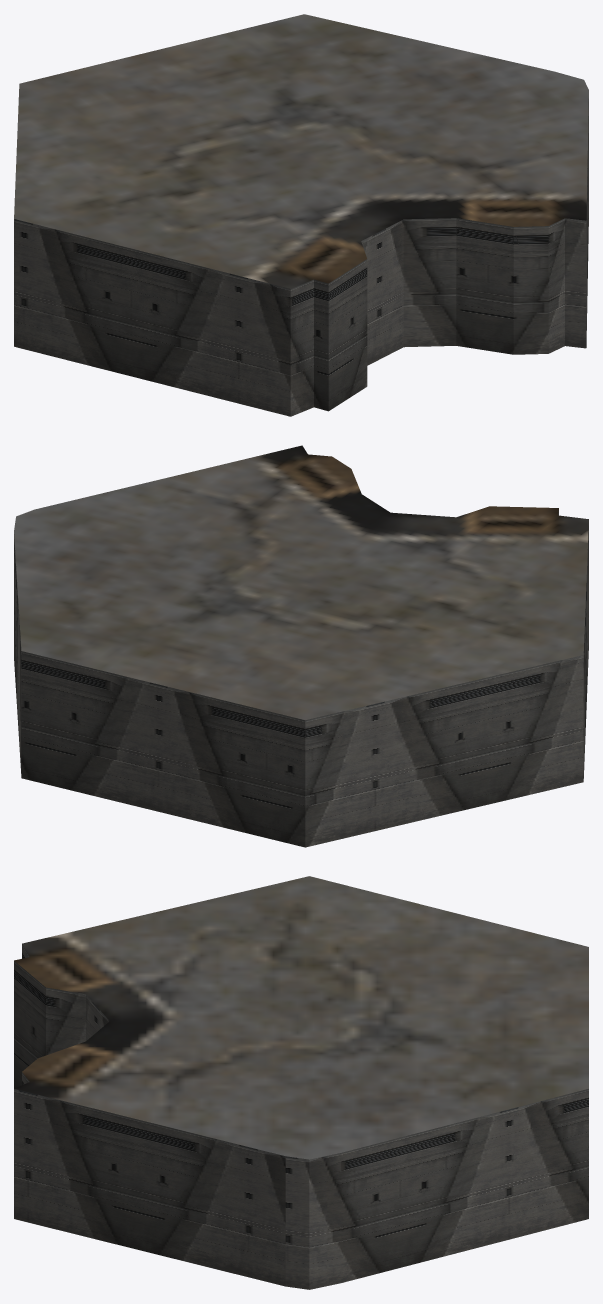
The model's file is fortress_light_a_55.glb.
3 views of the same model, one above another, from view 1: azimuth 30°, elevation 25°; view 2: azimuth 150°, elevation 25°; view 3: azimuth 270°, elevation 25° (orthographic). The views are drawn at different scales.
Visible parts, largest first — view 1: buildings/saxarba/fortress_light/fortress_light_a_55; view 2: buildings/saxarba/fortress_light/fortress_light_a_55; view 3: buildings/saxarba/fortress_light/fortress_light_a_55.
Boxes of the visible parts, x1=… form: buildings/saxarba/fortress_light/fortress_light_a_55: x1=14, y1=14, x2=588, y2=416; buildings/saxarba/fortress_light/fortress_light_a_55: x1=14, y1=445, x2=588, y2=847; buildings/saxarba/fortress_light/fortress_light_a_55: x1=14, y1=876, x2=588, y2=1289.
Size of the model in its own units: 84 by 18 by 72.
